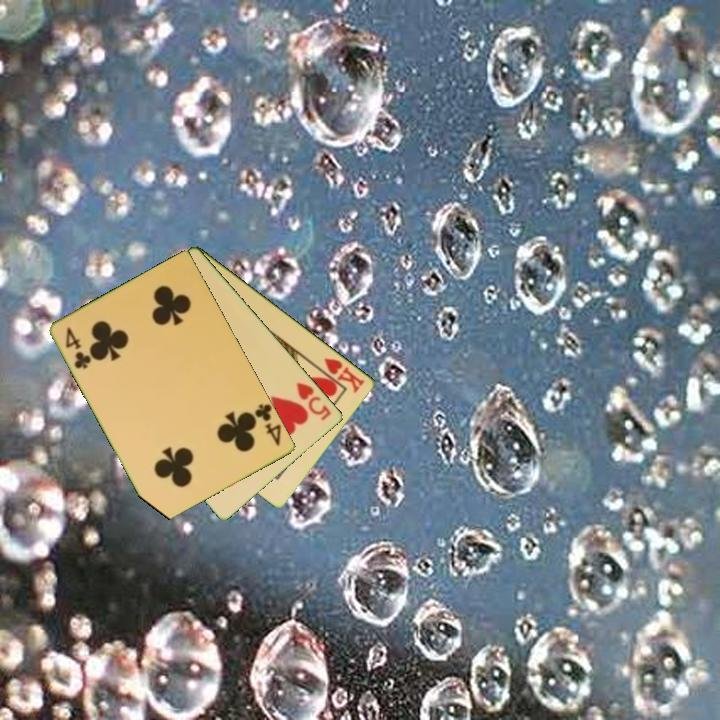4c: (251, 401, 284, 449), (62, 324, 94, 372)
5h: (293, 378, 335, 423)
Kh: (313, 354, 368, 396)
